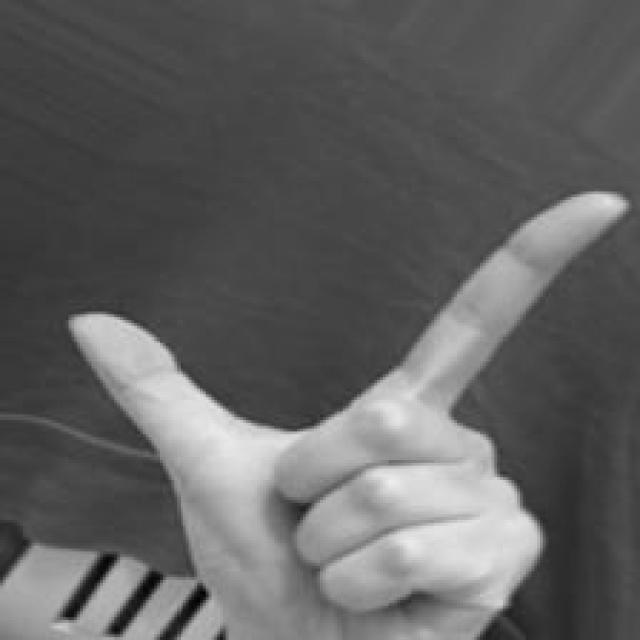L: (62, 191, 640, 638)
